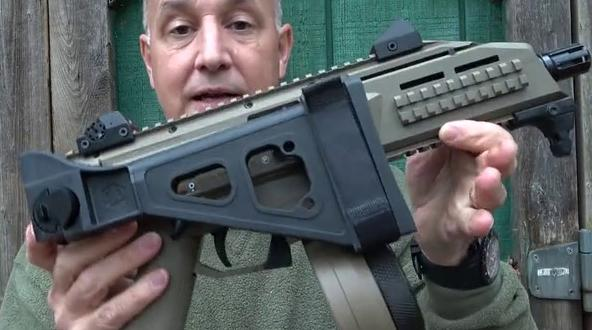gun: (1, 1, 592, 330)
